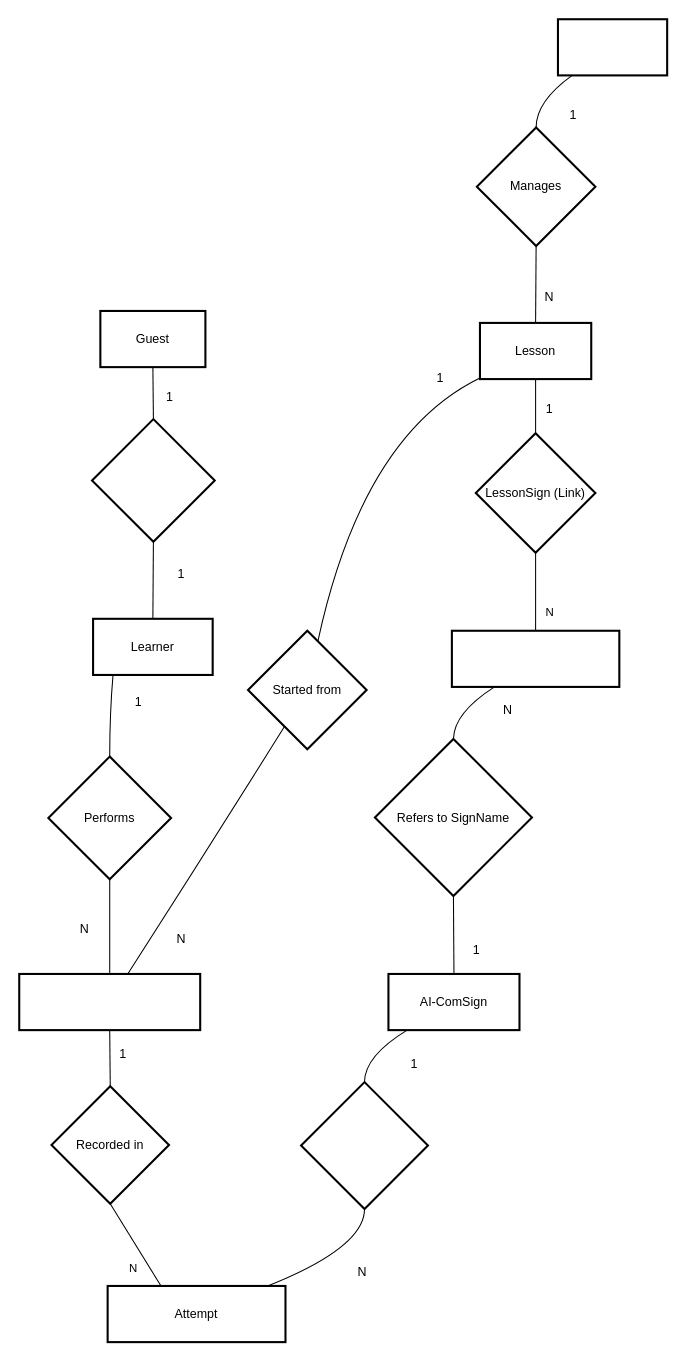
This 685x1360 diagram has some shape labels left out. Here are the shapes that lost their labels. From the top down, the box of each, then its label:
(556, 18, 668, 76): Admin
(90, 418, 215, 542): Registers
(450, 629, 620, 687): Sign Sample
(18, 972, 201, 1031): Practice Session
(300, 1081, 428, 1210): Evaluates
